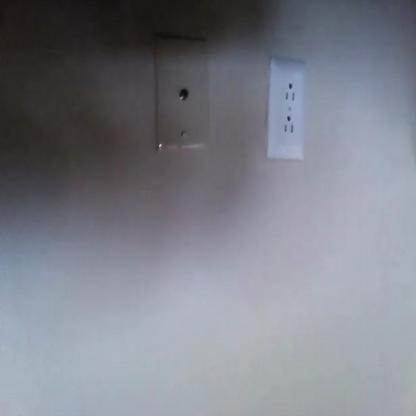OUTLET: (269, 59, 306, 160)
